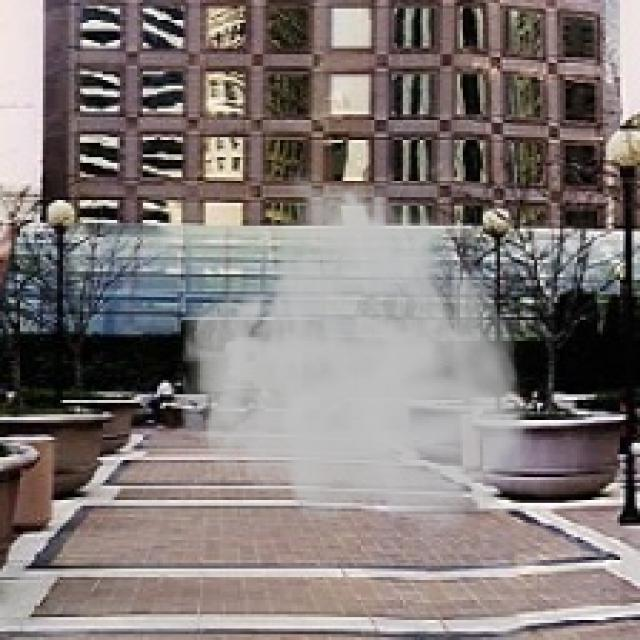Smoke: (177, 163, 534, 540)
